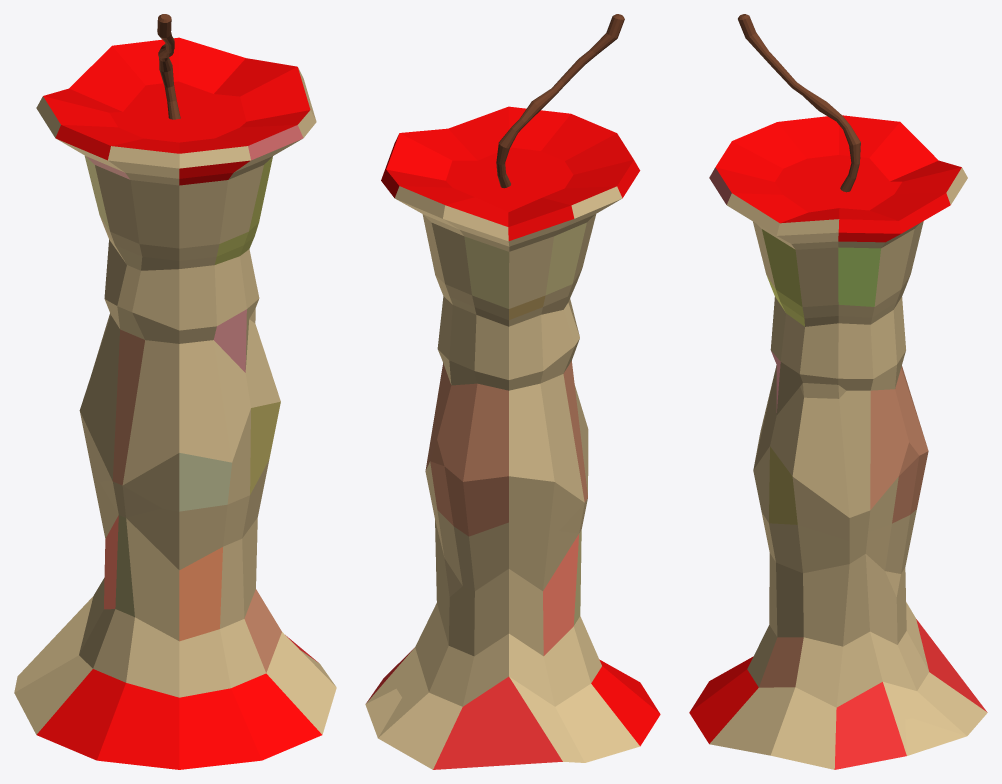
The model's file is apple.fbx.
3 views of the same model, side by side, from view 1: azimuth 30°, elevation 25°; view 2: azimuth 150°, elevation 25°; view 3: azimuth 270°, elevation 25° (orthographic). The views are drawn at different scales.
Visible parts, largest first — view 1: Apple; view 2: Apple; view 3: Apple.
Boxes of the visible parts, box(x1,y1,x2,y2) form: Apple: box(14, 14, 336, 769); Apple: box(365, 14, 660, 769); Apple: box(689, 14, 987, 769).
Size of the model in its own units: 27.72 by 69.61 by 28.18.
